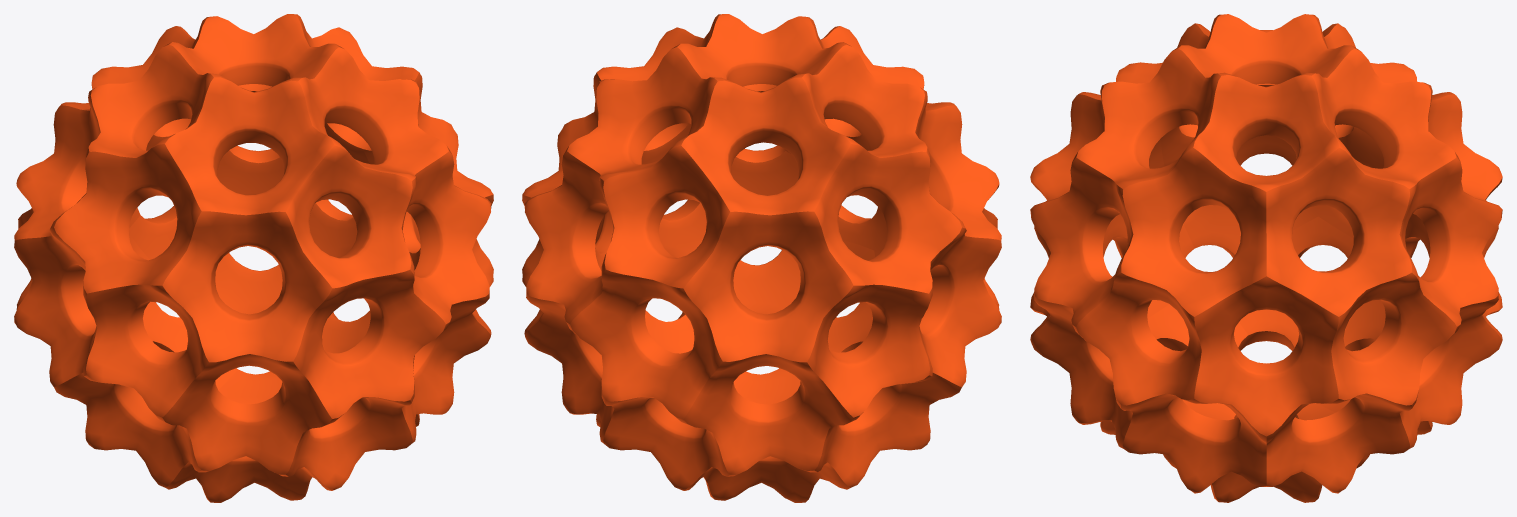
The picture shows the model from 3 angles, left to right: view 1: azimuth 30°, elevation 25°; view 2: azimuth 150°, elevation 25°; view 3: azimuth 270°, elevation 25°; orthographic projection.
Parts seen in each view (by area): view 1: split_parent_0; view 2: split_parent_0; view 3: split_parent_0.
Boxes of the visible parts, x1=… form: split_parent_0: x1=14, y1=14, x2=493, y2=502; split_parent_0: x1=522, y1=14, x2=1001, y2=502; split_parent_0: x1=1030, y1=14, x2=1502, y2=502.
Bounding box in the file's own units: 0.9999 × 1 × 0.9999.
